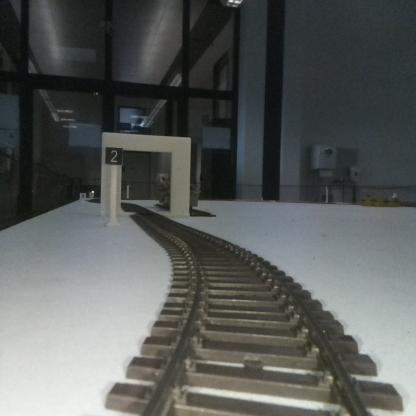black-info-2: (106, 148, 122, 226)
